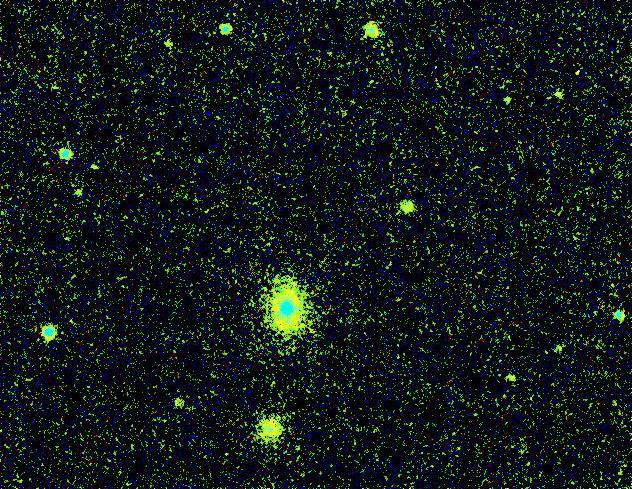star: (543, 80, 573, 110)
